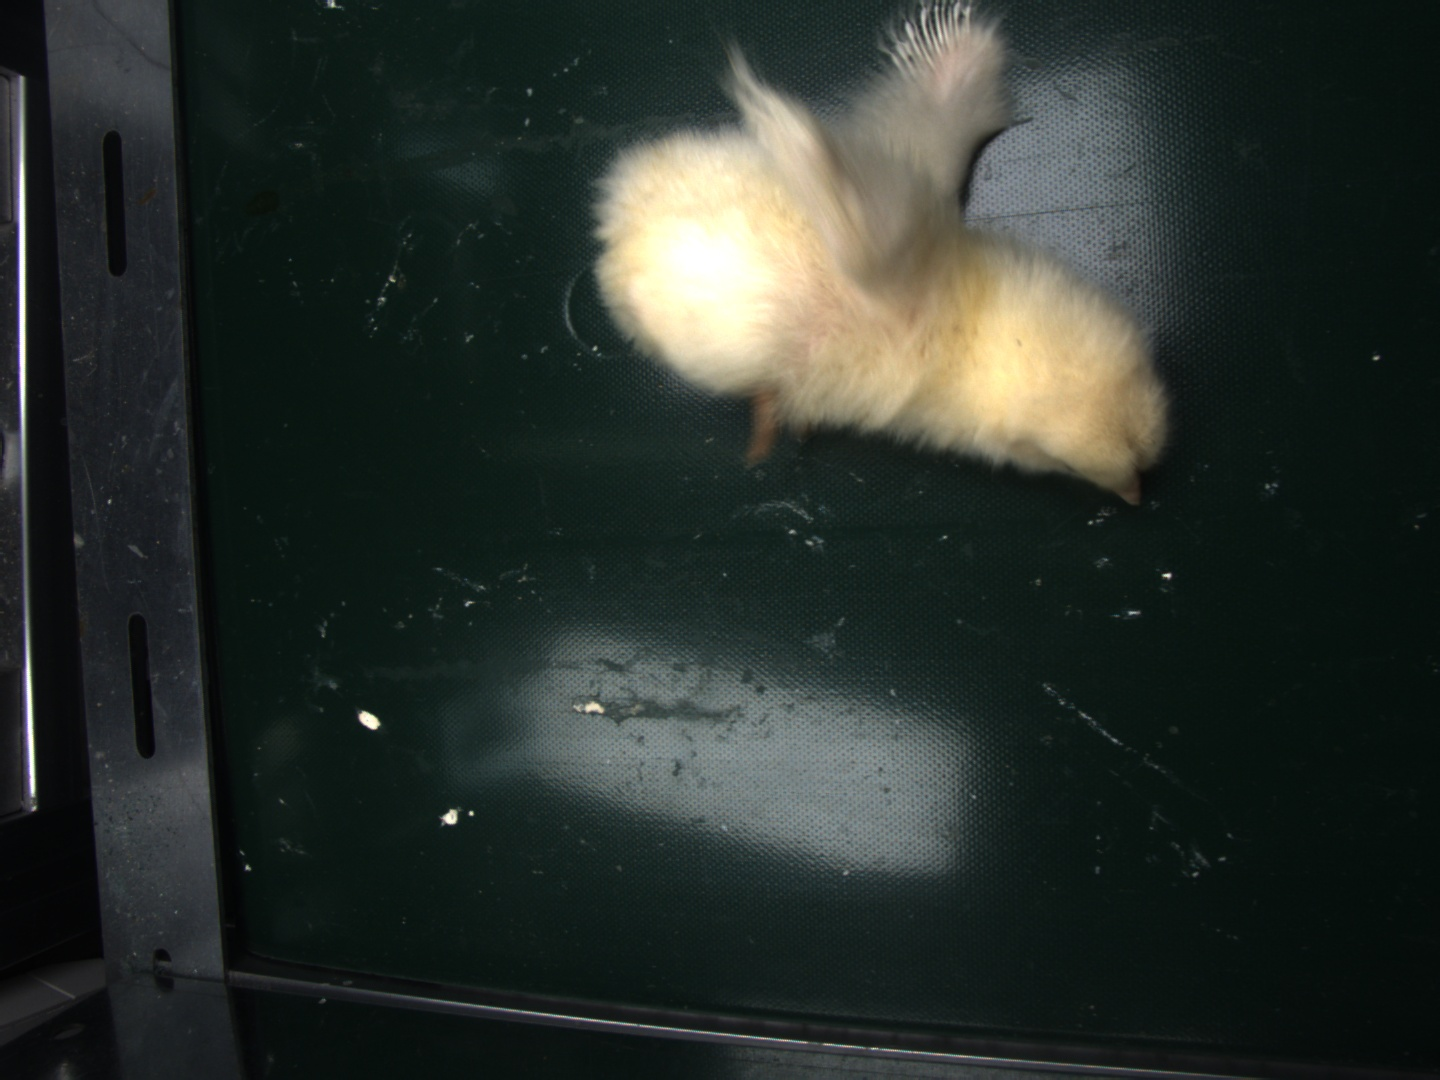male: (897, 1, 974, 77)
